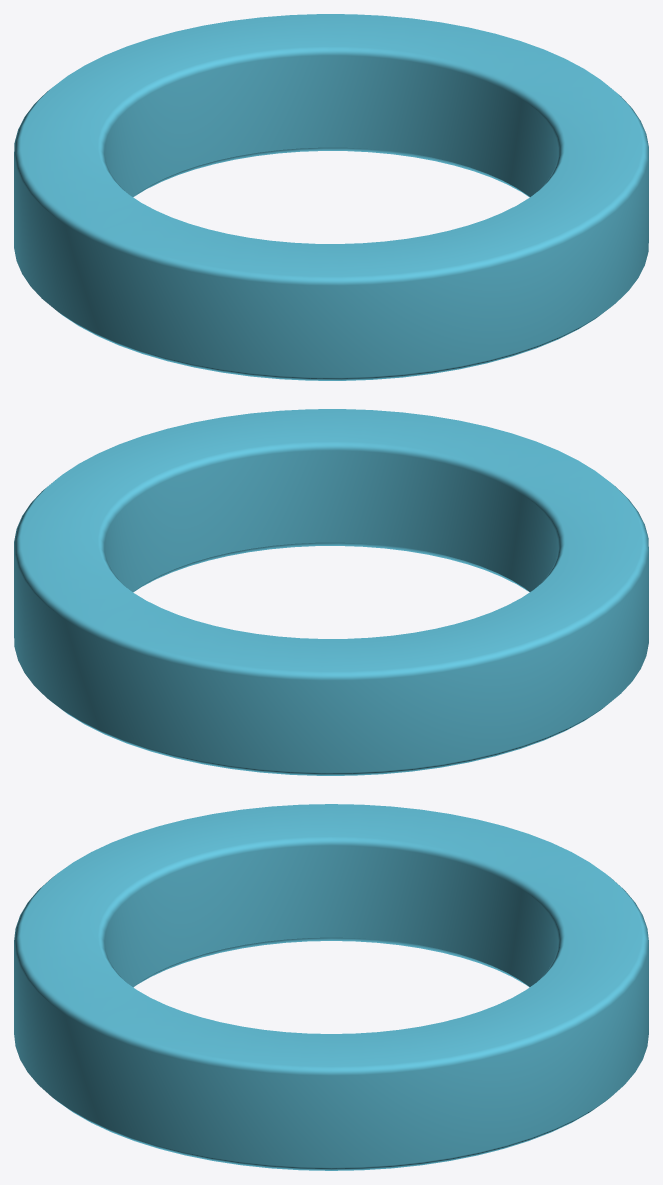
The picture shows the model from 3 angles, top to bottom: view 1: azimuth 30°, elevation 25°; view 2: azimuth 150°, elevation 25°; view 3: azimuth 270°, elevation 25°; orthographic projection.
Visible parts, largest first — view 1: seal_body; view 2: seal_body; view 3: seal_body.
Boxes of the visible parts, <box> form: seal_body: <box>14,14,648,380</box>; seal_body: <box>14,409,648,775</box>; seal_body: <box>14,804,648,1170</box>.
Bounding box in the file's own units: 0.035 × 0.00635 × 0.035.
